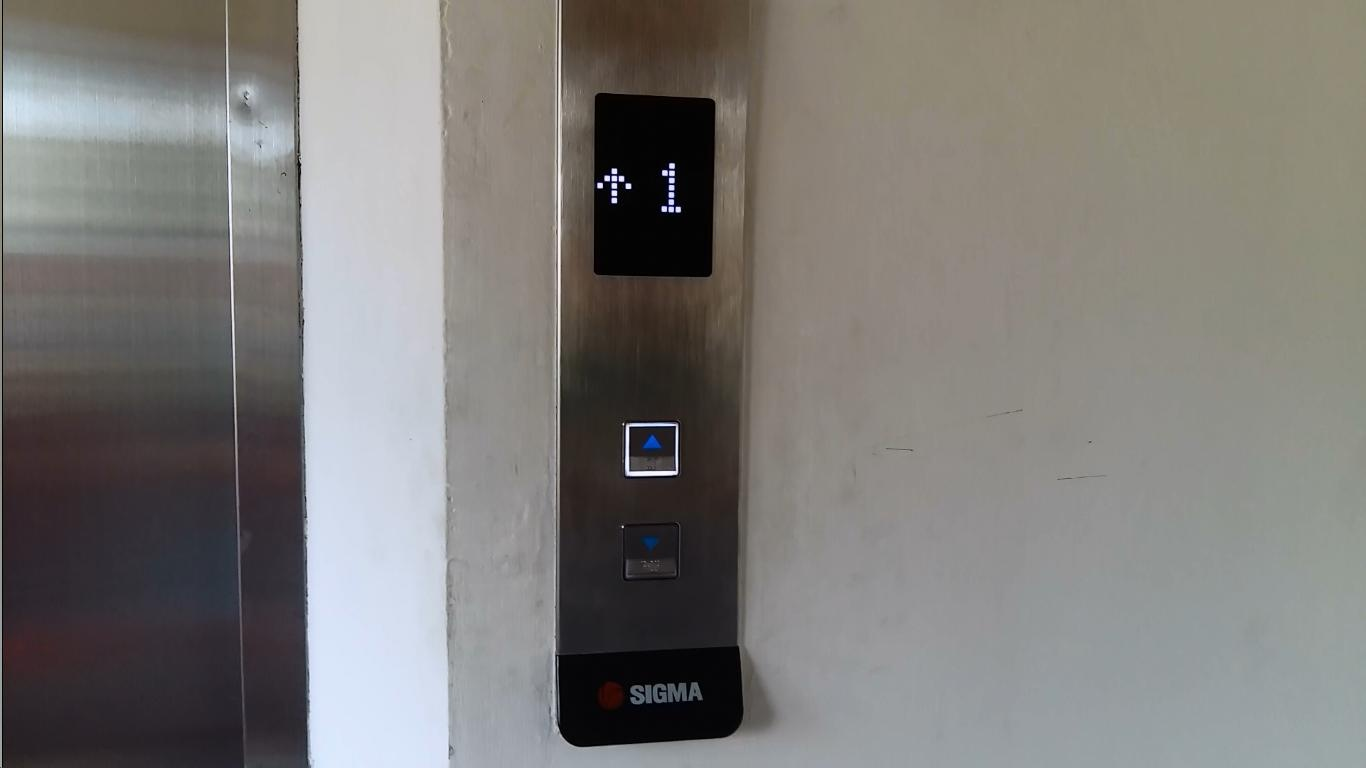down: (621, 520, 682, 583)
led: (592, 89, 716, 281)
up: (621, 418, 680, 480)
